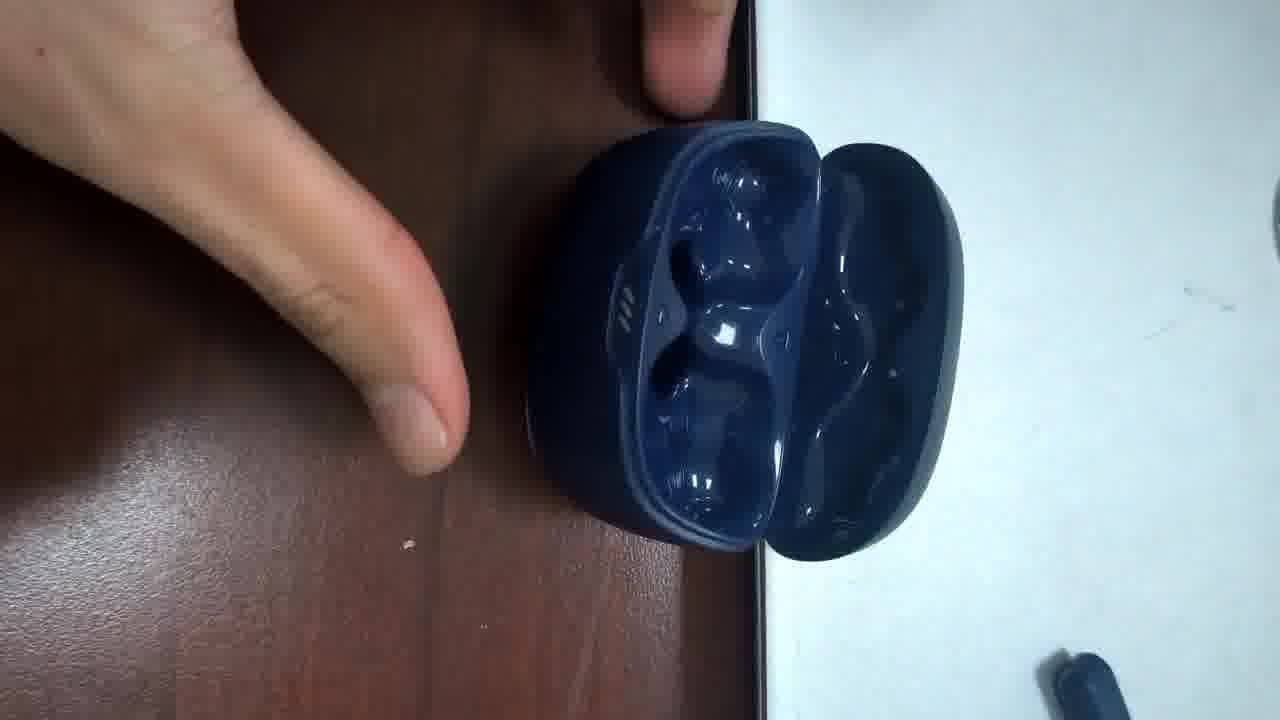Case: (527, 121, 960, 559)
Empty_Slot: (638, 321, 790, 545), (671, 134, 819, 320)
